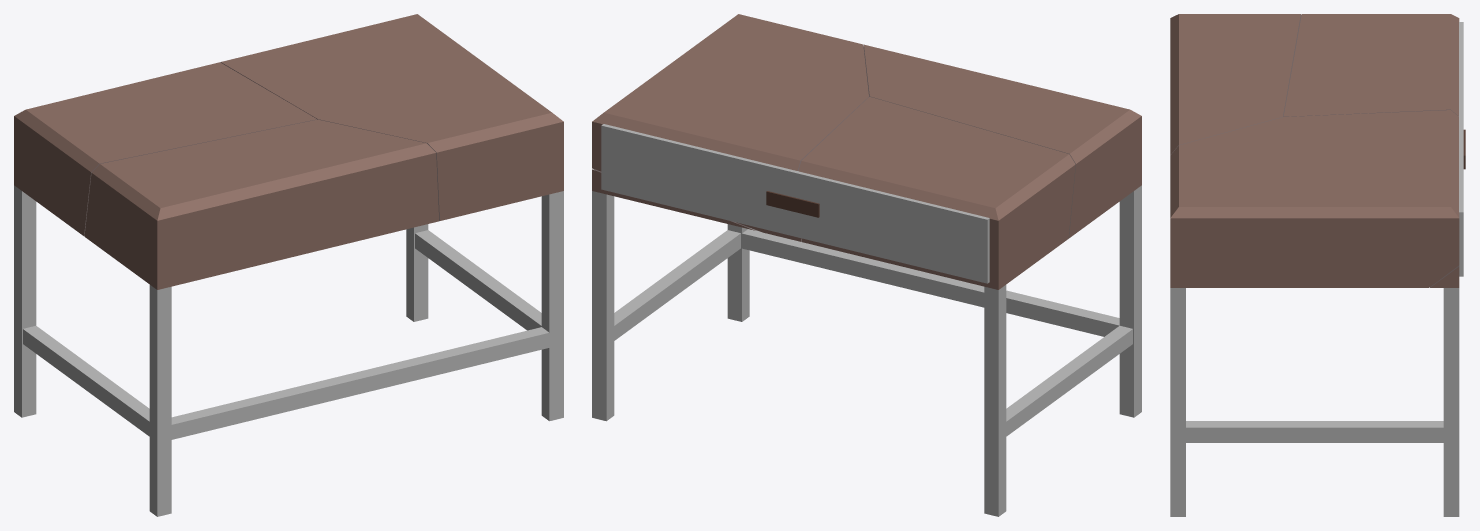
The model's file is Ban_Fractured.fbx.
The picture shows the model from 3 angles, left to right: view 1: azimuth 30°, elevation 25°; view 2: azimuth 150°, elevation 25°; view 3: azimuth 270°, elevation 25°; orthographic projection.
Parts seen in each view (by area): view 1: polySurface1202_cell, polySurface1202_cell.002, polySurface1202_cell.003, polySurface1209, polySurface1188, polySurface1169, polySurface1243, polySurface1156, polySurface1174, polySurface1237; view 2: polySurface1202_cell.002, polySurface1202_cell.003, polySurface1202.001, polySurface1202_cell, polySurface1209, polySurface1243, polySurface1237, polySurface1188, polySurface1156, polySurface1174, polySurface1169, polySurface1202_cell.001 (+1 smaller); view 3: polySurface1202_cell.002, polySurface1202_cell.003, polySurface1202_cell, polySurface1174, polySurface1237, polySurface1169, polySurface1202.001, polySurface1202_cell.001.
Part boxes in pixels (x1=…): polySurface1202_cell: x1=84, y1=119, x2=439, y2=289; polySurface1202_cell.002: x1=220, y1=14, x2=563, y2=220; polySurface1202_cell.003: x1=14, y1=62, x2=317, y2=236; polySurface1209: x1=171, y1=327, x2=549, y2=439; polySurface1188: x1=149, y1=285, x2=171, y2=516; polySurface1169: x1=541, y1=191, x2=563, y2=421; polySurface1243: x1=14, y1=185, x2=36, y2=417; polySurface1156: x1=23, y1=326, x2=149, y2=436; polySurface1174: x1=415, y1=230, x2=541, y2=330; polySurface1237: x1=406, y1=224, x2=428, y2=321; polySurface1202_cell.002: x1=592, y1=14, x2=868, y2=241; polySurface1202_cell.003: x1=798, y1=96, x2=1075, y2=289; polySurface1202.001: x1=601, y1=124, x2=989, y2=283; polySurface1202_cell: x1=863, y1=44, x2=1141, y2=238; polySurface1209: x1=742, y1=228, x2=1119, y2=336; polySurface1243: x1=984, y1=285, x2=1006, y2=516; polySurface1237: x1=592, y1=191, x2=614, y2=421; polySurface1188: x1=1119, y1=185, x2=1141, y2=417; polySurface1156: x1=1006, y1=326, x2=1132, y2=436; polySurface1174: x1=614, y1=230, x2=740, y2=340; polySurface1169: x1=727, y1=224, x2=749, y2=321; polySurface1202_cell.001: x1=592, y1=169, x2=755, y2=230; polySurface1202_cell.002: x1=1170, y1=110, x2=1459, y2=287; polySurface1202_cell.003: x1=1283, y1=14, x2=1459, y2=116; polySurface1202_cell: x1=1170, y1=14, x2=1301, y2=155; polySurface1174: x1=1186, y1=421, x2=1443, y2=442; polySurface1237: x1=1443, y1=288, x2=1459, y2=516; polySurface1169: x1=1170, y1=288, x2=1185, y2=516; polySurface1202.001: x1=1459, y1=22, x2=1463, y2=276; polySurface1202_cell.001: x1=1430, y1=265, x2=1459, y2=287.
Size of the model in its own units: 121 by 86.58 by 75.61.
